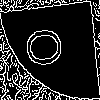O: (24, 25, 72, 69)
